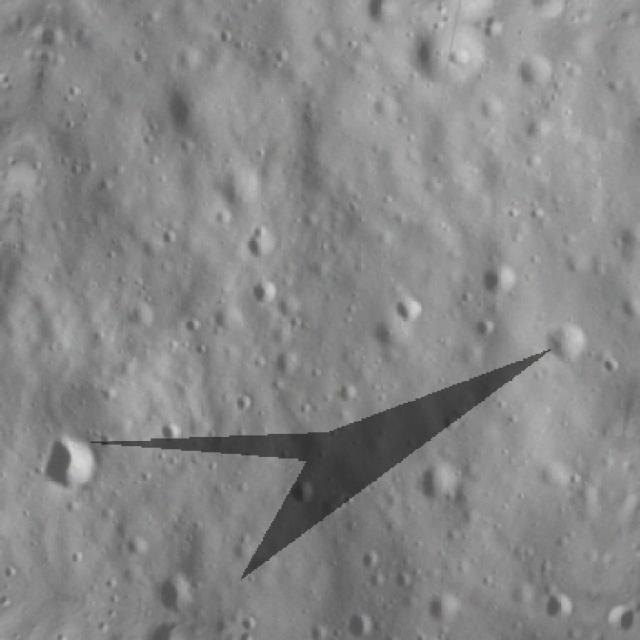crater: (32, 429, 113, 514), (533, 307, 604, 378), (397, 451, 471, 518), (454, 246, 524, 312), (137, 559, 206, 621), (525, 578, 581, 632), (508, 46, 562, 102), (415, 582, 468, 632), (275, 472, 330, 520), (143, 402, 194, 452), (390, 286, 436, 340), (356, 314, 402, 363), (240, 270, 286, 319), (236, 221, 281, 267), (427, 406, 468, 446), (381, 562, 421, 601), (349, 543, 391, 580), (336, 606, 375, 640)
